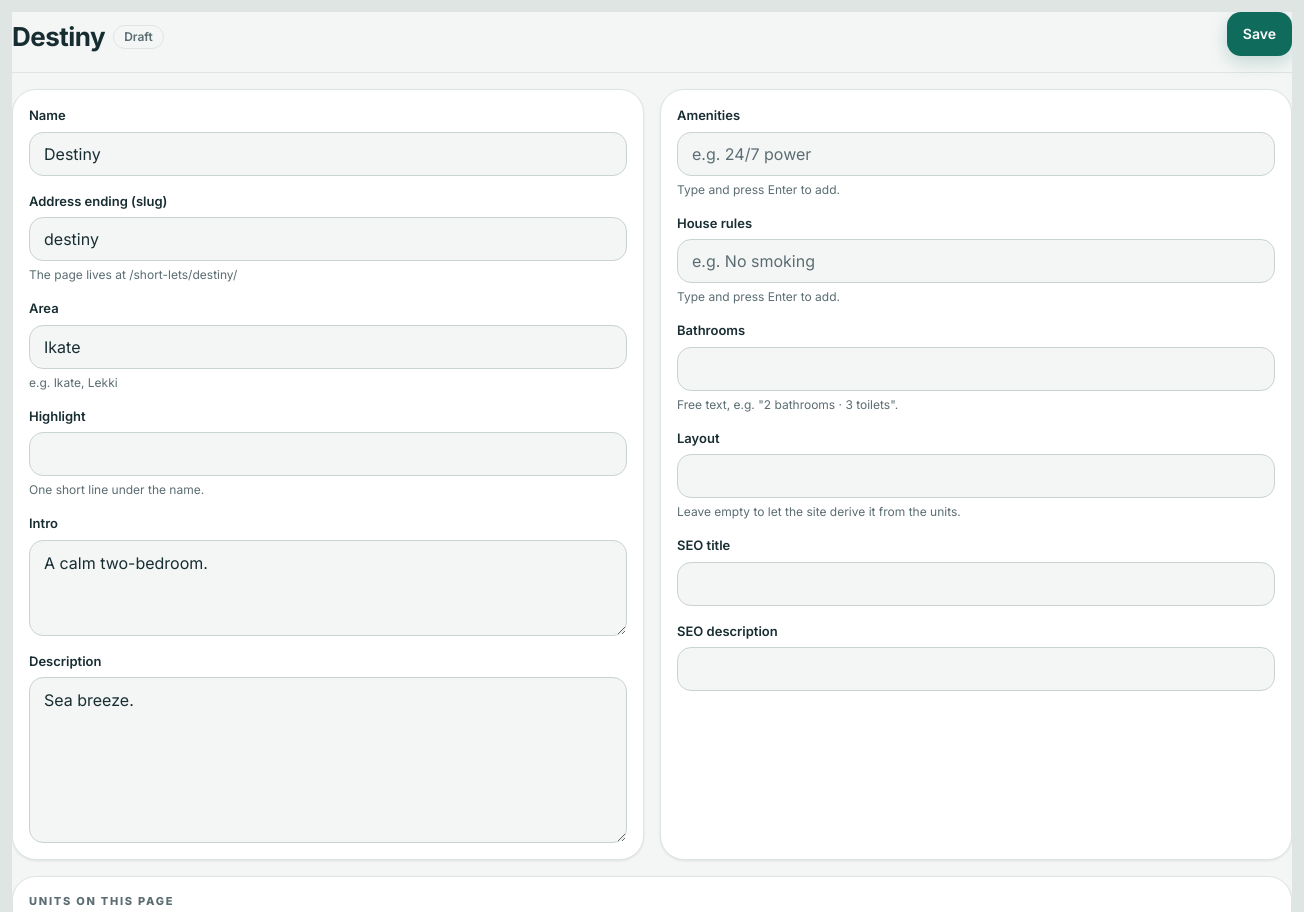
it: listing editor › a STALE save shows the reload banner with who changed it
Step 1. Replace the text in the text box labelled "Intro" with "Mine first." → point(328, 588), box [29,540,627,636]
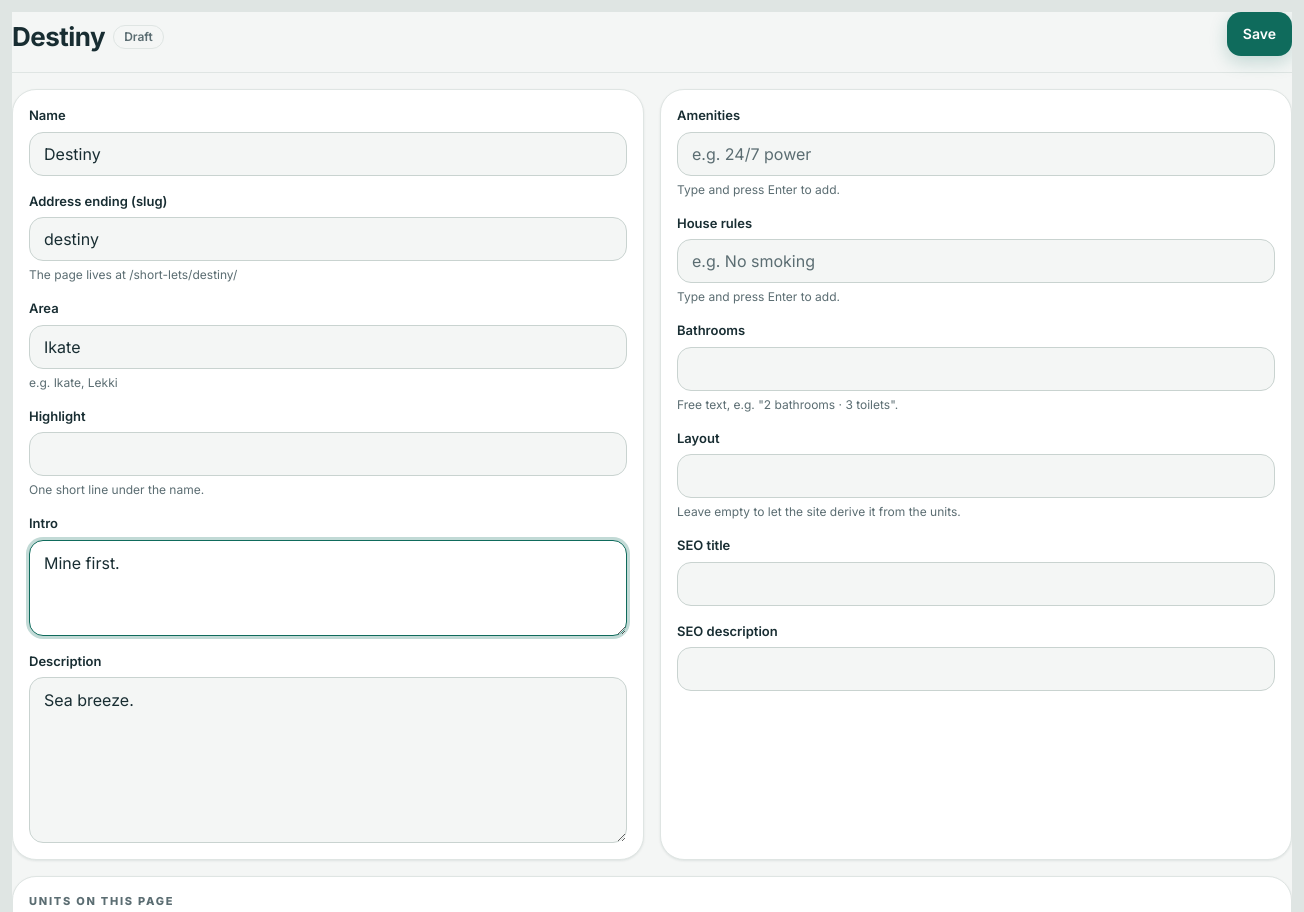
Step 2. Click the button "Save" → point(1259, 34), box [1227,12,1292,56]
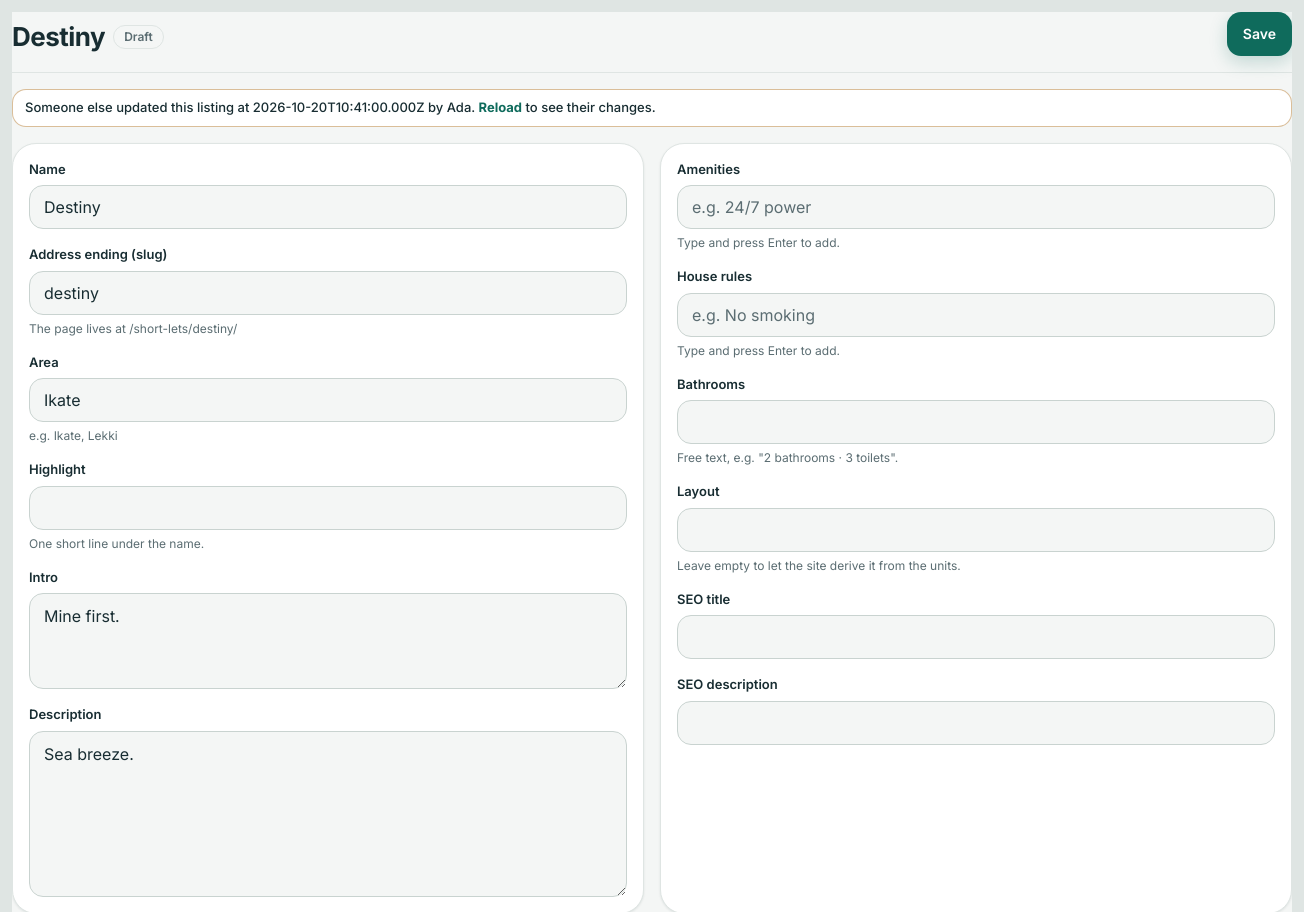
Now the message shows "Someone else updated this listing at", box [25,99,253,115]
Now the message shows "Reload to see their changes.", box [12,89,1292,126]
